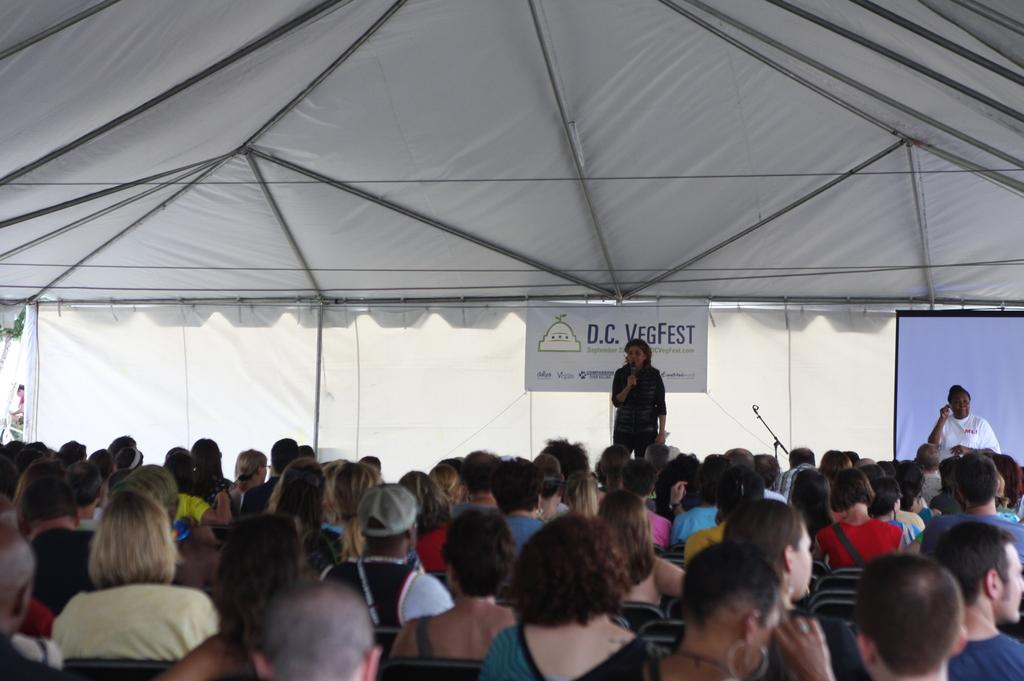Sem Máscara: (944, 390, 964, 416), (623, 349, 645, 362)
